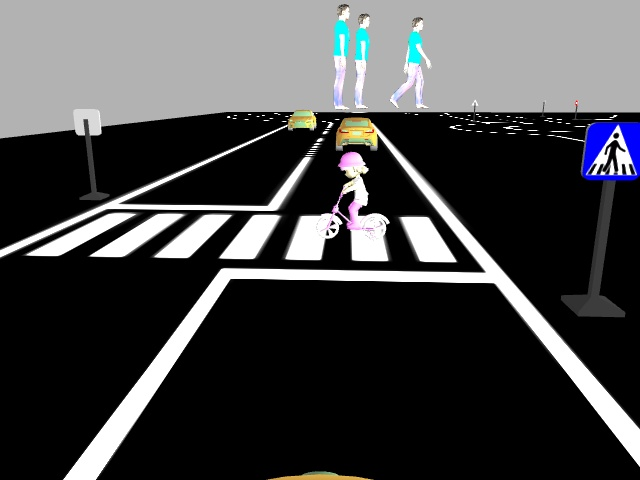Crosswalk: (580, 121, 639, 182)
Pedestrian: (311, 154, 389, 240)
